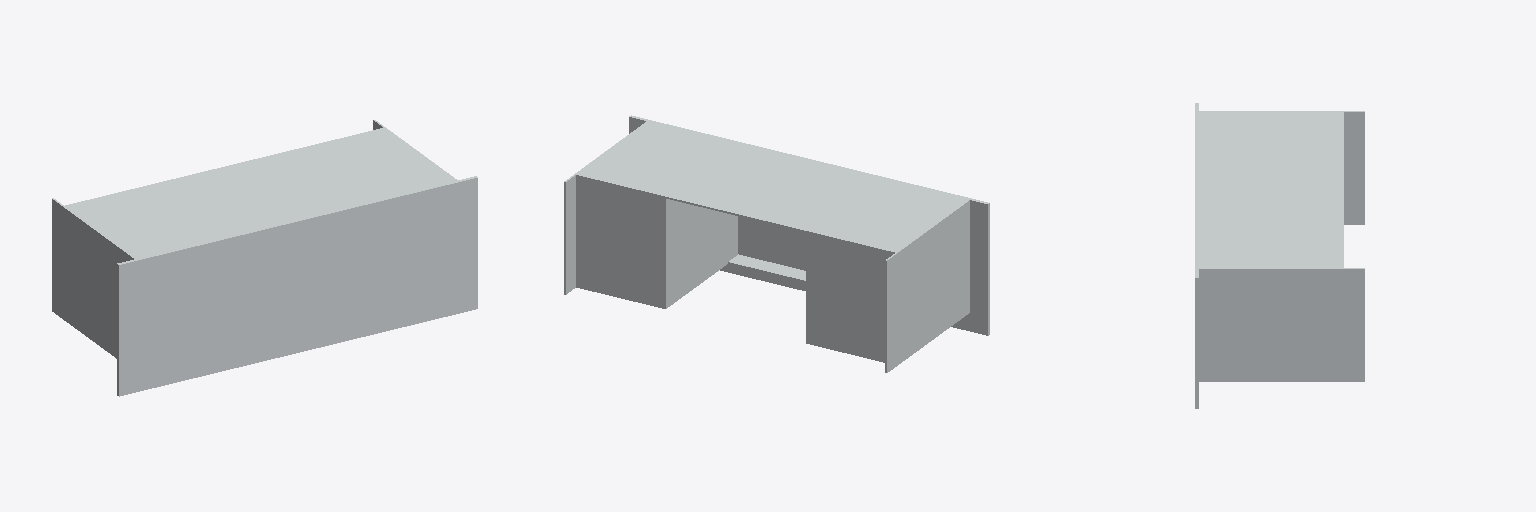
Rendered from Desktop.obj.
The picture shows the model from 3 angles: view 1: azimuth 30°, elevation 25°; view 2: azimuth 150°, elevation 25°; view 3: azimuth 270°, elevation 25°; orthographic projection.
Parts seen in each view (by area): view 1: obj_0; view 2: obj_0; view 3: obj_0.
Boxes of the visible parts, x1=… form: obj_0: x1=52, y1=120, x2=477, y2=396; obj_0: x1=564, y1=115, x2=989, y2=372; obj_0: x1=1195, y1=103, x2=1364, y2=408.
Size of the model in its own units: 200 by 70 by 82.